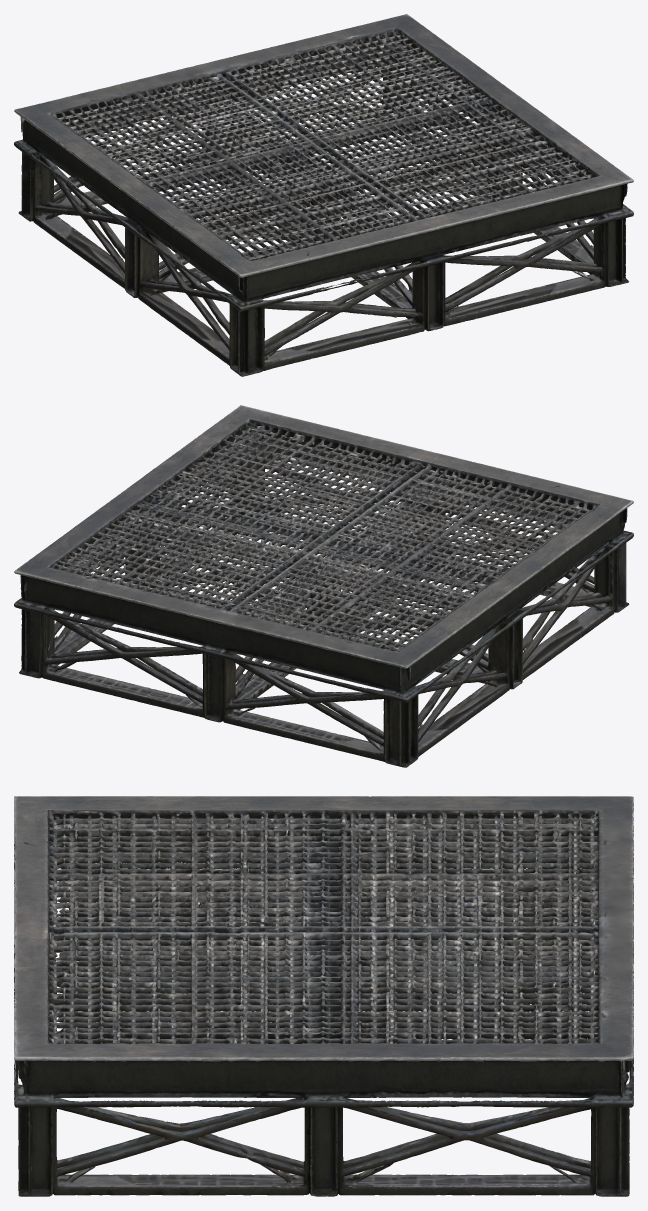
The model's file is Env_SteelGrating.fbx.
3 renders of one model, top to bottom at view 1: azimuth 30°, elevation 25°; view 2: azimuth 150°, elevation 25°; view 3: azimuth 270°, elevation 25°, orthographic. The views are drawn at different scales.
Parts seen in each view (by area): view 1: Env_SteelGrating; view 2: Env_SteelGrating; view 3: Env_SteelGrating.
Part boxes in pixels (x1,y1,x2,y2): Env_SteelGrating: [14, 14, 633, 376]; Env_SteelGrating: [14, 405, 633, 767]; Env_SteelGrating: [14, 796, 633, 1196].
Bounding box in the file's own units: 99.8 × 25.32 × 99.65.
